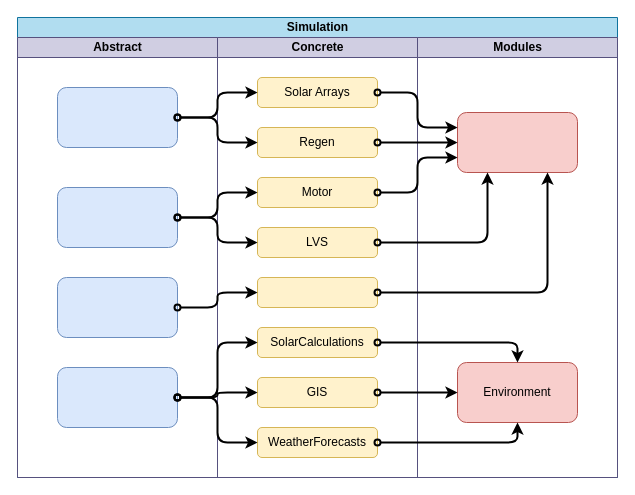
Image size: 635x495. Some labels were removed from this diagram. The shapes that lost their labels are listed below. From the top down, each one's centre as x and y in pixels, then its label:
the point at 117,117: Producer
the point at 517,142: Car
the point at 117,217: Consumer
the point at 117,307: Storage
the point at 317,292: Battery
the point at 117,397: Collector
